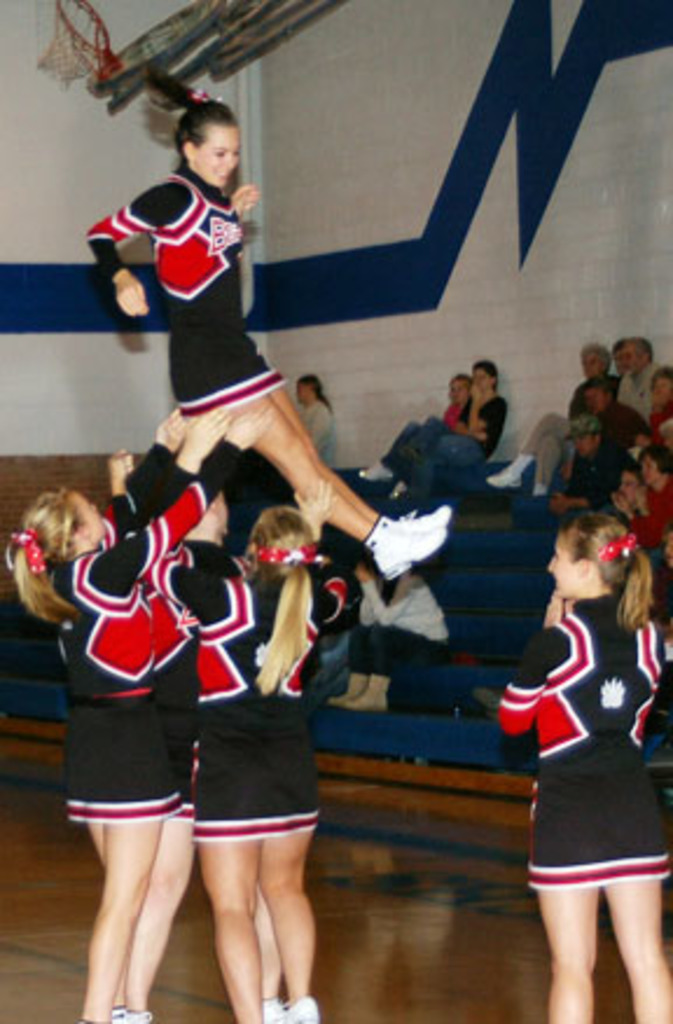Person: (5, 65, 672, 1023)
